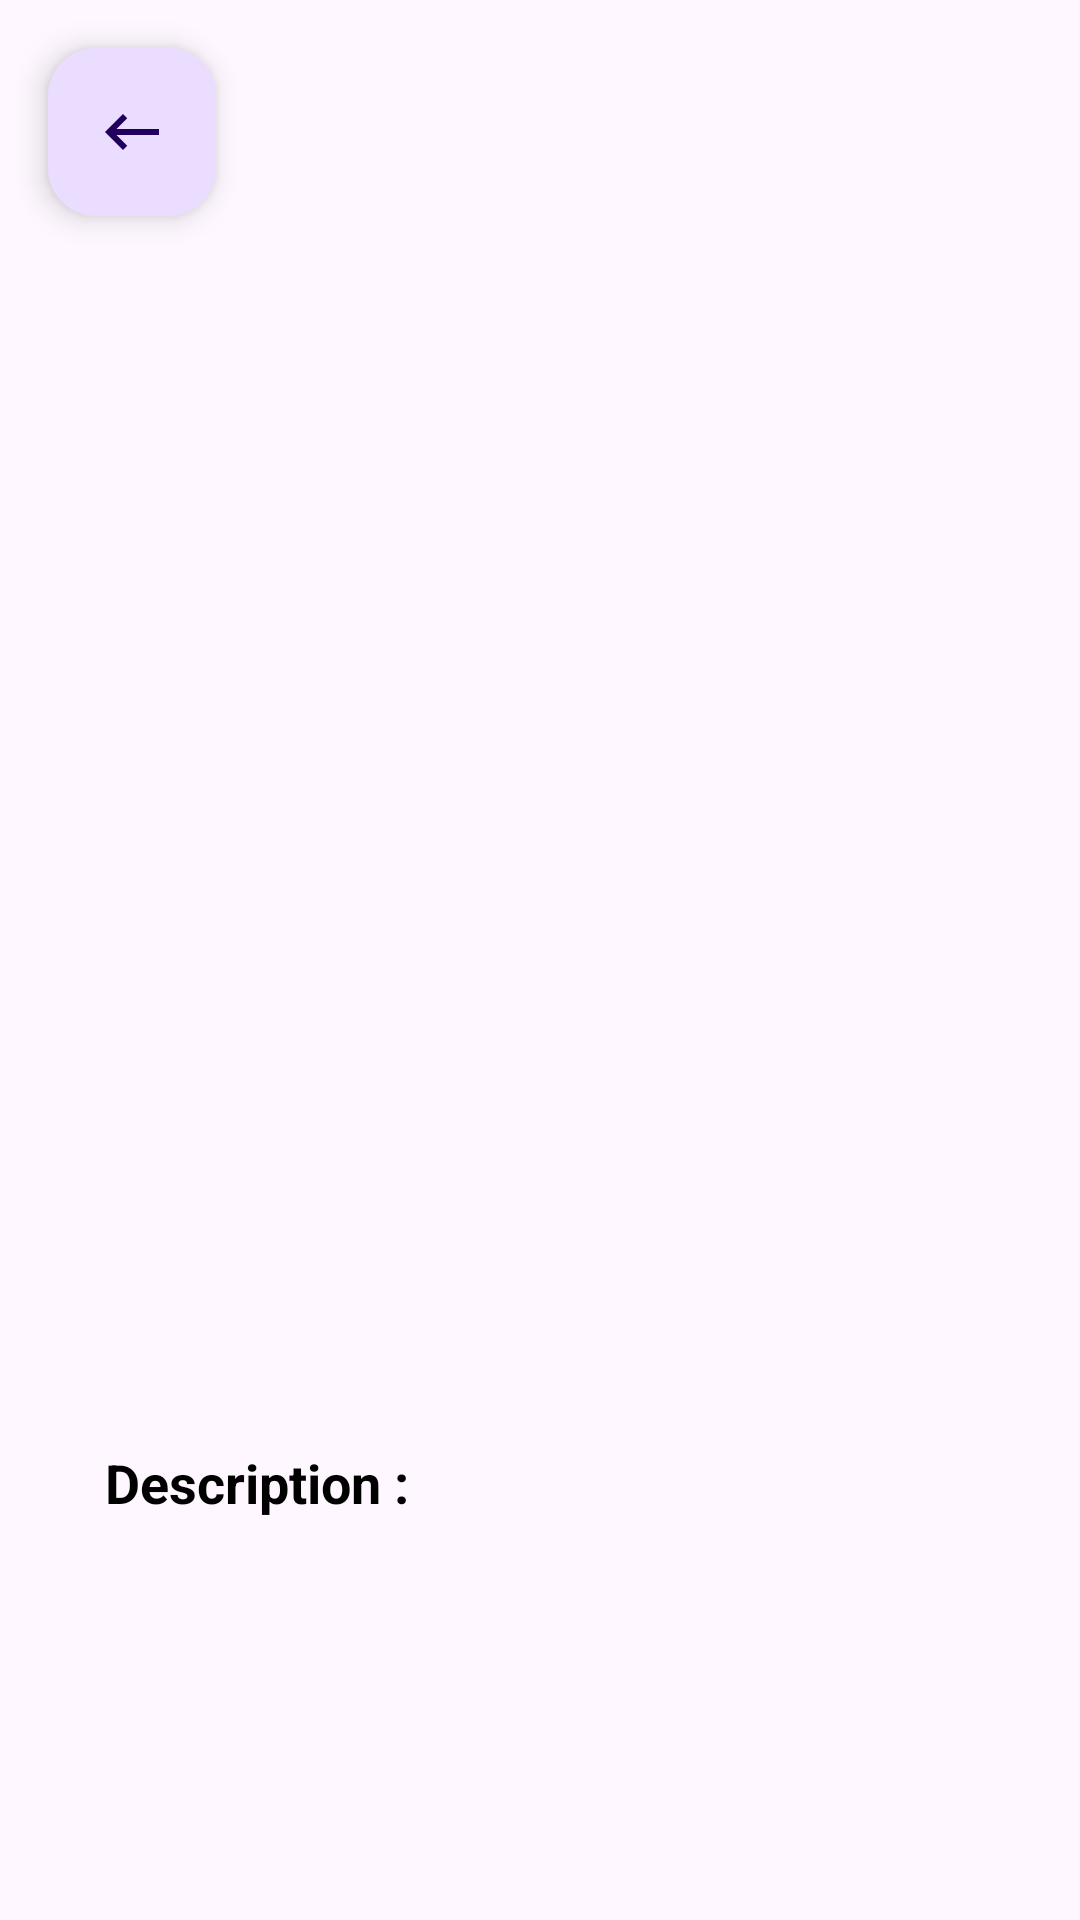

Icon bounding boxes for this 1080x1920 phone screenshot, format (x1, y1, x2, y2):
back: (48, 48, 216, 216)
